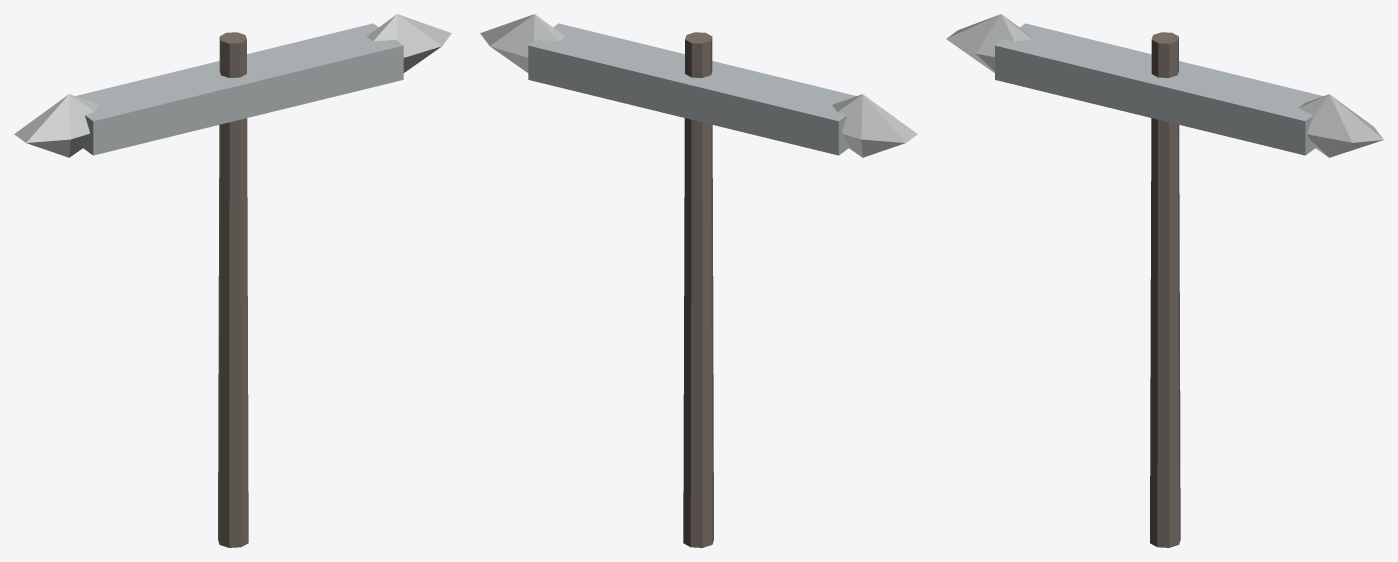
Rendered from pickaxe.glb.
3 renders of one model, left to right at view 1: azimuth 30°, elevation 25°; view 2: azimuth 150°, elevation 25°; view 3: azimuth 330°, elevation 25°, orthographic.
Parts seen in each view (by area): view 1: 工具; view 2: 工具; view 3: 工具.
Boxes of the visible parts, <box> form: 工具: <box>14,14,451,547</box>; 工具: <box>480,14,917,547</box>; 工具: <box>946,14,1383,547</box>.
Size of the model in its own units: 1.98 by 2.2 by 0.24.
